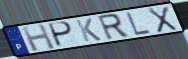H: (20, 22, 57, 52)
K: (74, 17, 104, 43)
L: (125, 11, 153, 37)
P: (48, 21, 75, 49)
R: (95, 12, 132, 41)
X: (146, 5, 179, 34)
